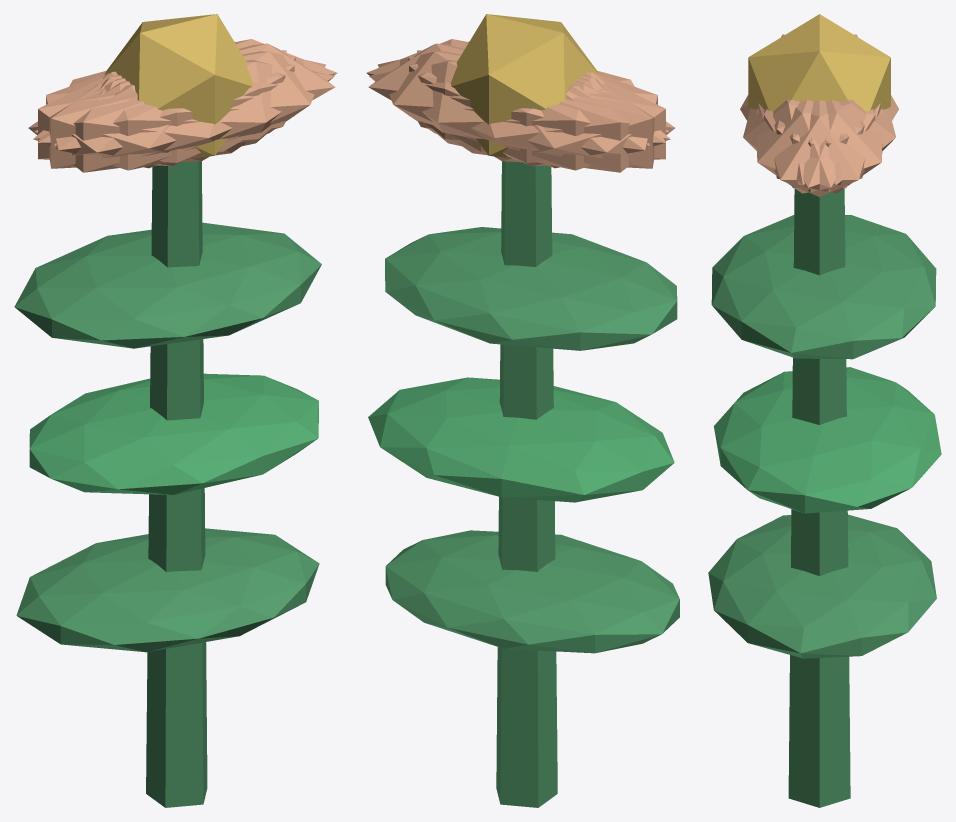
Rendered from machilus-japonicus.glb.
3 renders of one model, left to right at view 1: azimuth 30°, elevation 25°; view 2: azimuth 150°, elevation 25°; view 3: azimuth 270°, elevation 25°, orthographic.
Parts seen in each view (by area): view 1: leaf2, leaf0, leaf1, stem, center, petal1, petal6, petal2, petal5, petal7, petal0, petal4 (+2 smaller); view 2: leaf1, leaf2, leaf0, stem, center, petal8, petal3, petal7, petal4, petal2, petal0, petal5 (+2 smaller); view 3: leaf2, leaf1, leaf0, stem, center, petal0, petal5, petal4, petal8, petal1.
Boxes of the visible parts, x1=… form: leaf2: x1=14, y1=222, x2=321, y2=348; leaf0: x1=16, y1=528, x2=319, y2=652; leaf1: x1=29, y1=373, x2=318, y2=494; stem: x1=146, y1=161, x2=207, y2=807; center: x1=104, y1=14, x2=252, y2=158; petal1: x1=33, y1=60, x2=334, y2=170; petal6: x1=28, y1=73, x2=246, y2=172; petal2: x1=49, y1=50, x2=286, y2=168; petal5: x1=53, y1=51, x2=325, y2=162; petal7: x1=38, y1=56, x2=295, y2=166; petal0: x1=104, y1=43, x2=335, y2=152; petal4: x1=34, y1=39, x2=337, y2=143; leaf1: x1=368, y1=377, x2=674, y2=502; leaf2: x1=385, y1=227, x2=677, y2=350; leaf0: x1=385, y1=530, x2=679, y2=653; stem: x1=496, y1=161, x2=557, y2=807; center: x1=450, y1=14, x2=599, y2=158; petal8: x1=369, y1=60, x2=670, y2=170; petal3: x1=457, y1=73, x2=675, y2=172; petal7: x1=417, y1=50, x2=654, y2=168; petal4: x1=377, y1=51, x2=650, y2=162; petal2: x1=408, y1=56, x2=665, y2=166; petal0: x1=368, y1=43, x2=599, y2=152; petal5: x1=366, y1=39, x2=668, y2=143; leaf2: x1=711, y1=215, x2=936, y2=359; leaf1: x1=714, y1=367, x2=941, y2=513; leaf0: x1=708, y1=514, x2=936, y2=658; stem: x1=788, y1=188, x2=850, y2=807; center: x1=748, y1=14, x2=890, y2=111; petal0: x1=758, y1=100, x2=880, y2=197; petal5: x1=756, y1=100, x2=875, y2=193; petal4: x1=764, y1=100, x2=882, y2=193; petal8: x1=774, y1=99, x2=895, y2=185; petal1: x1=743, y1=99, x2=864, y2=185.
Bounding box in the file's own units: 0.1482 × 0.3609 × 0.1002.
